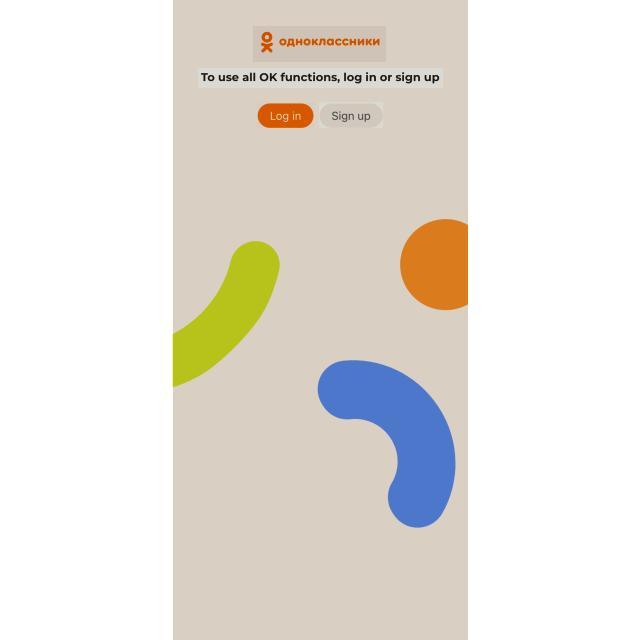CheckBox: (319, 102, 383, 128), (257, 103, 314, 128)
card: (173, 0, 468, 640)
date picker: (253, 26, 386, 62)
image: (198, 68, 443, 88)
